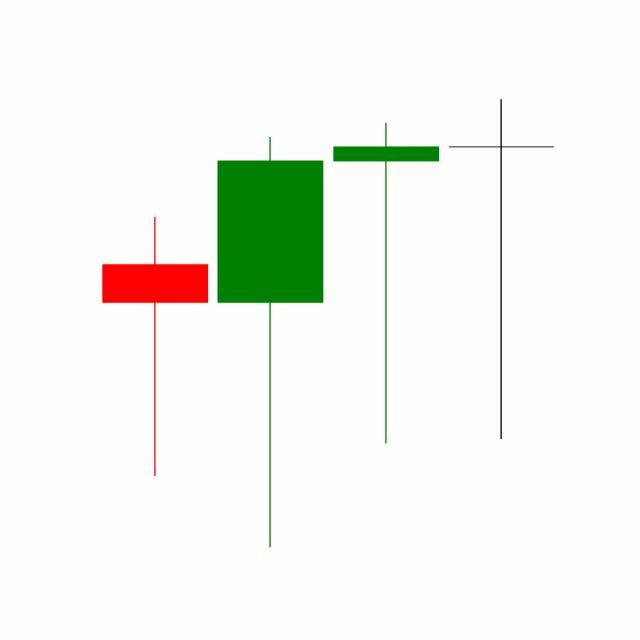Dragonfly Doji: (329, 119, 445, 448)
